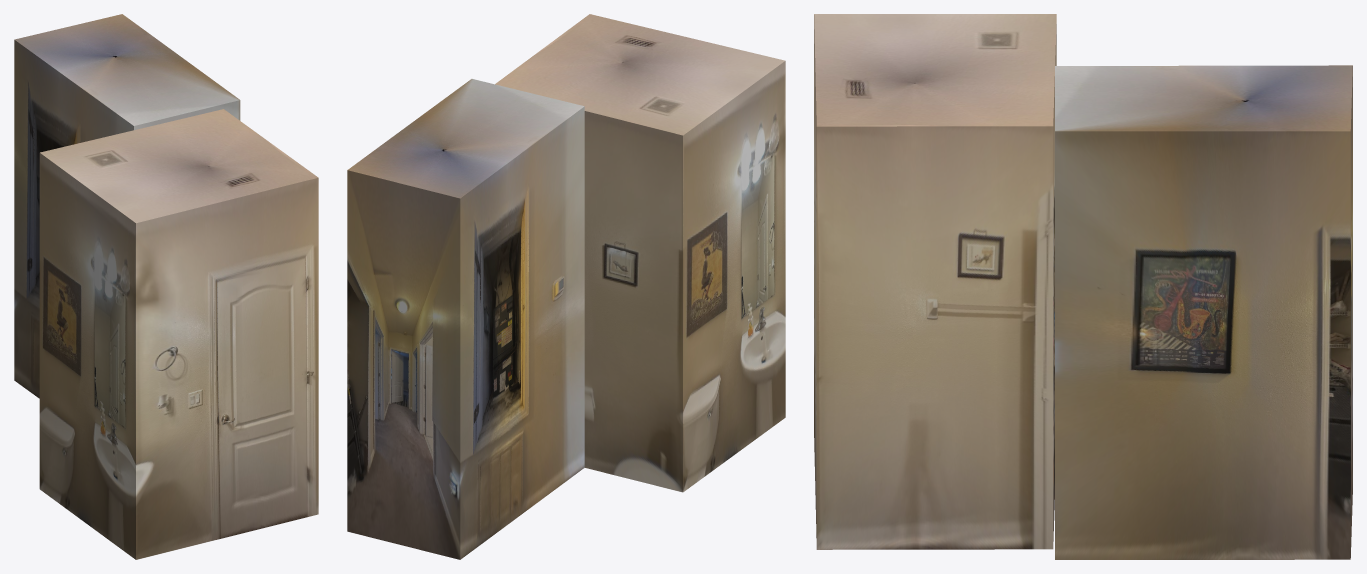
Rendered from floor1.glb.
3 renders of one model, left to right at view 1: azimuth 30°, elevation 25°; view 2: azimuth 150°, elevation 25°; view 3: azimuth 270°, elevation 25°, orthographic. The views are drawn at different scales.
Parts seen in each view (by area): view 1: 08ded219 539a 44d4 8a5b 58f09a692004 Mesh, 08ded219 a204 4c35 8316 393076e8cd5b Mesh; view 2: 08ded219 a204 4c35 8316 393076e8cd5b Mesh, 08ded219 539a 44d4 8a5b 58f09a692004 Mesh; view 3: 08ded219 a204 4c35 8316 393076e8cd5b Mesh, 08ded219 539a 44d4 8a5b 58f09a692004 Mesh.
Boxes of the visible parts, x1,y1,x2,y2 form: 08ded219 539a 44d4 8a5b 58f09a692004 Mesh: (39, 109, 318, 559); 08ded219 a204 4c35 8316 393076e8cd5b Mesh: (14, 14, 240, 398); 08ded219 a204 4c35 8316 393076e8cd5b Mesh: (347, 79, 584, 559); 08ded219 539a 44d4 8a5b 58f09a692004 Mesh: (495, 14, 785, 492); 08ded219 a204 4c35 8316 393076e8cd5b Mesh: (1055, 65, 1352, 559); 08ded219 539a 44d4 8a5b 58f09a692004 Mesh: (814, 14, 1056, 549).
Bounding box in the file's own units: 1.92 × 3.12 × 3.56.
6 materials, 6 textured.
